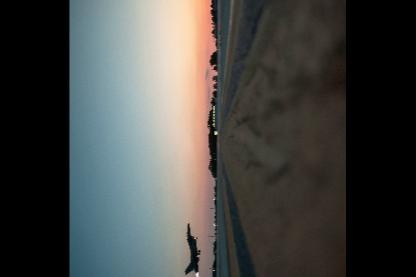F14: (184, 218, 200, 273)
